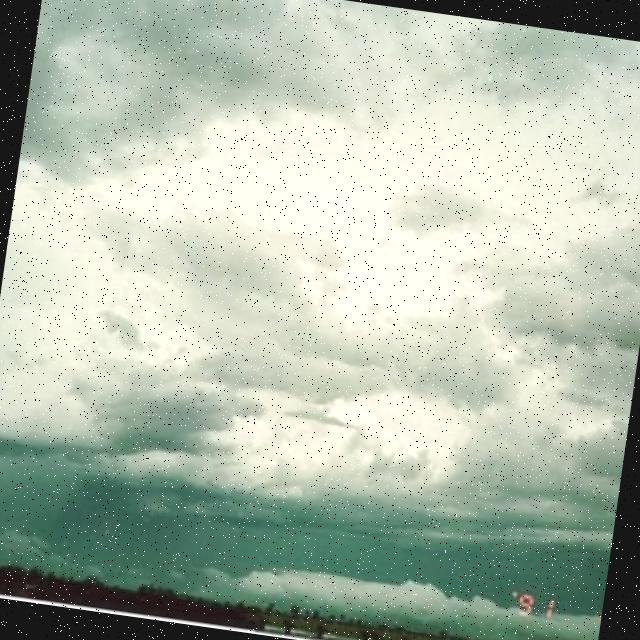St: (1, 1, 640, 569)
